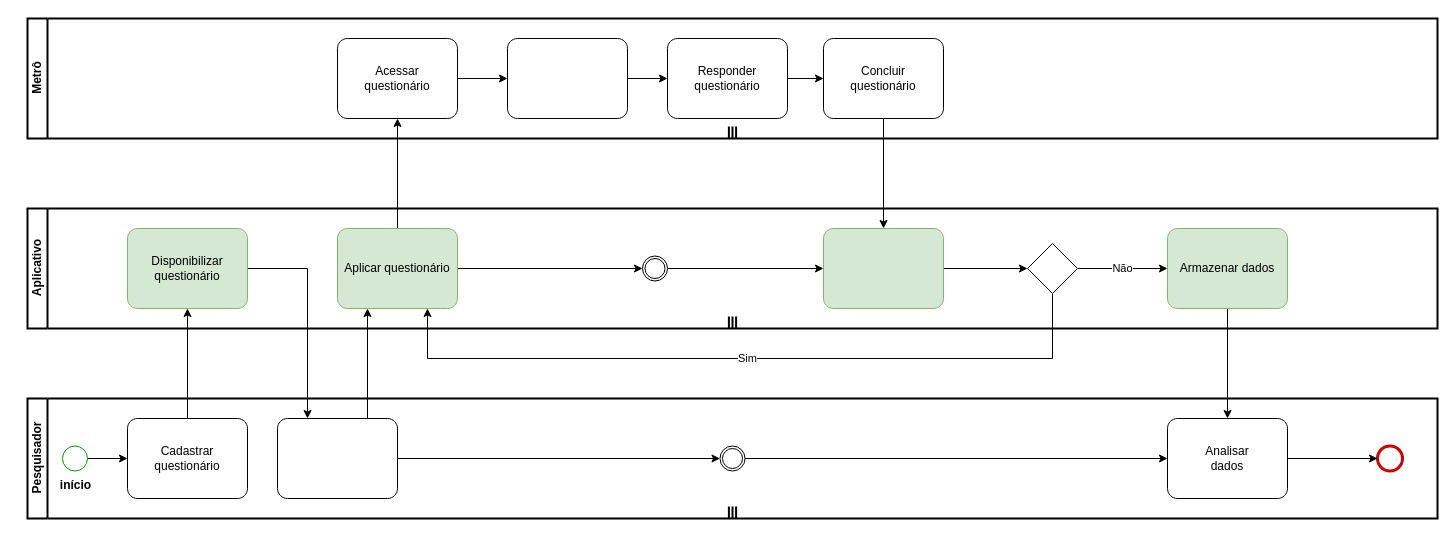
This 1455x536 diagram has some shape labels left out. Each missing label, with the centre of its shape:
"Entrevistar funcionários" goes at point (337, 458).
"Fim" goes at point (1389, 458).
"Há necessidade de reaplicação?" goes at point (1052, 268).
"Validar dados" goes at point (883, 268).
"Visualizar questionário" goes at point (567, 78).
